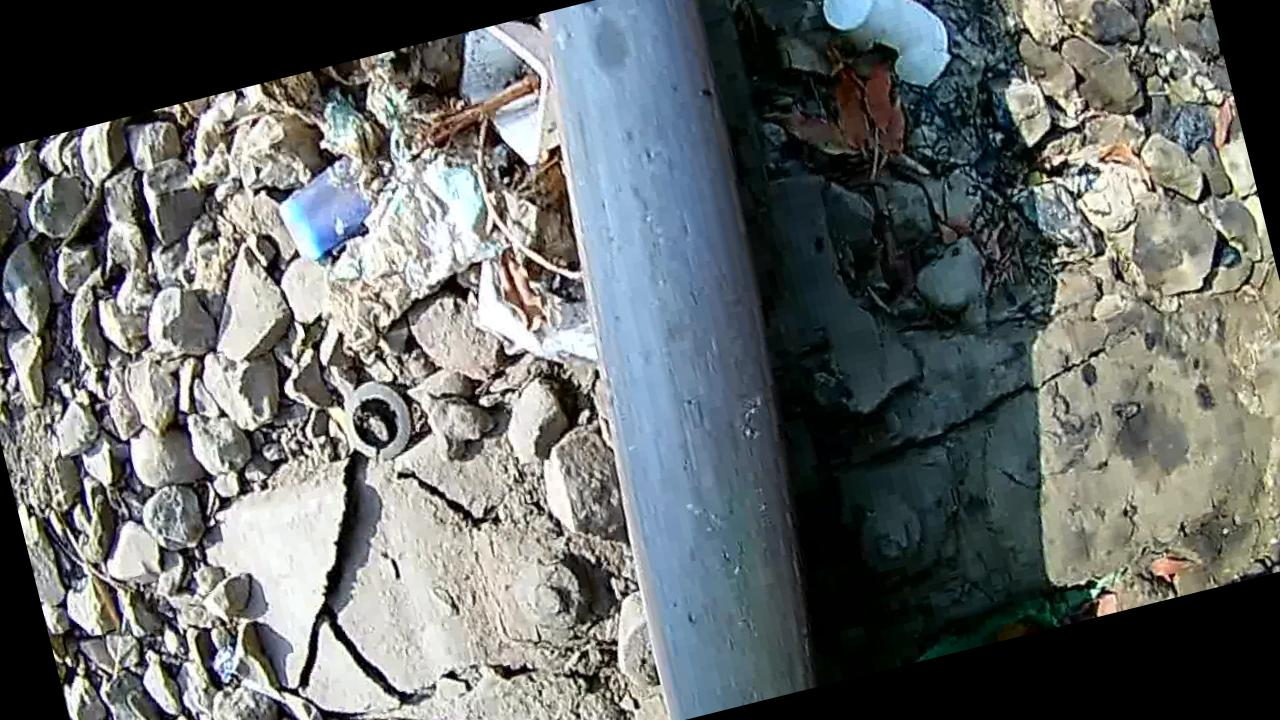bolt_missing: (525, 0, 721, 173)
